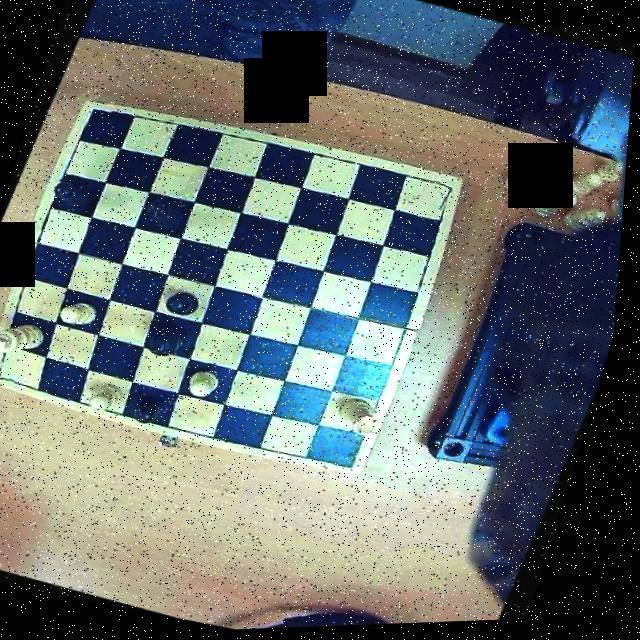chess-table-corners: (423, 174, 467, 216), (336, 440, 374, 480), (80, 97, 118, 133), (0, 356, 27, 390)
